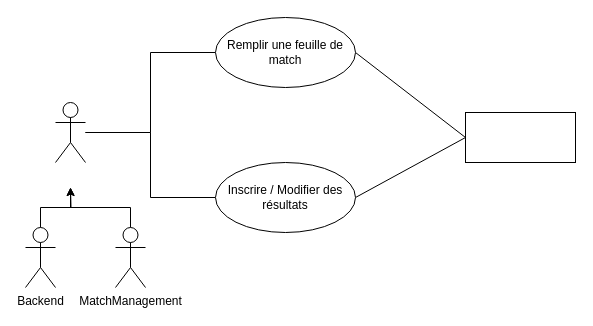
Some shapes in this 593 by 326 pixel diagram are drawn without their labels. The box of each missing label's shape, as (x1, y1, x2, y2) in pixels:
Base de données: (464, 112, 576, 162)
Utilisateur: (54, 102, 86, 162)
